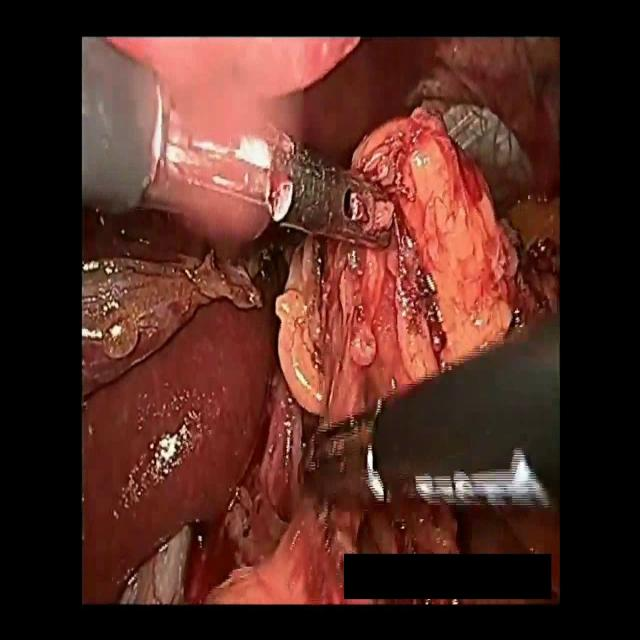surgical-area: (80, 37, 559, 606)
surgical-tool: (80, 37, 392, 243)
